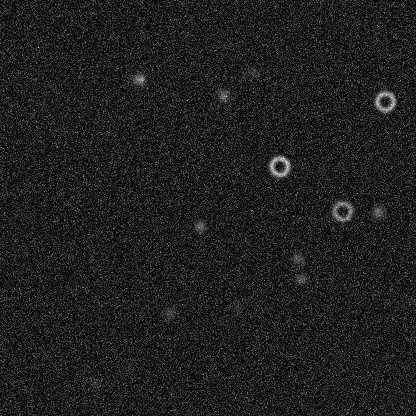Ring: (267, 154, 291, 178), (330, 199, 354, 223), (373, 89, 397, 113)
Spot: (243, 64, 259, 80), (292, 270, 308, 286), (88, 375, 104, 391), (215, 87, 231, 103), (228, 298, 244, 314), (369, 203, 385, 219), (161, 304, 177, 320), (289, 250, 305, 266), (191, 218, 207, 234), (131, 71, 147, 87)
